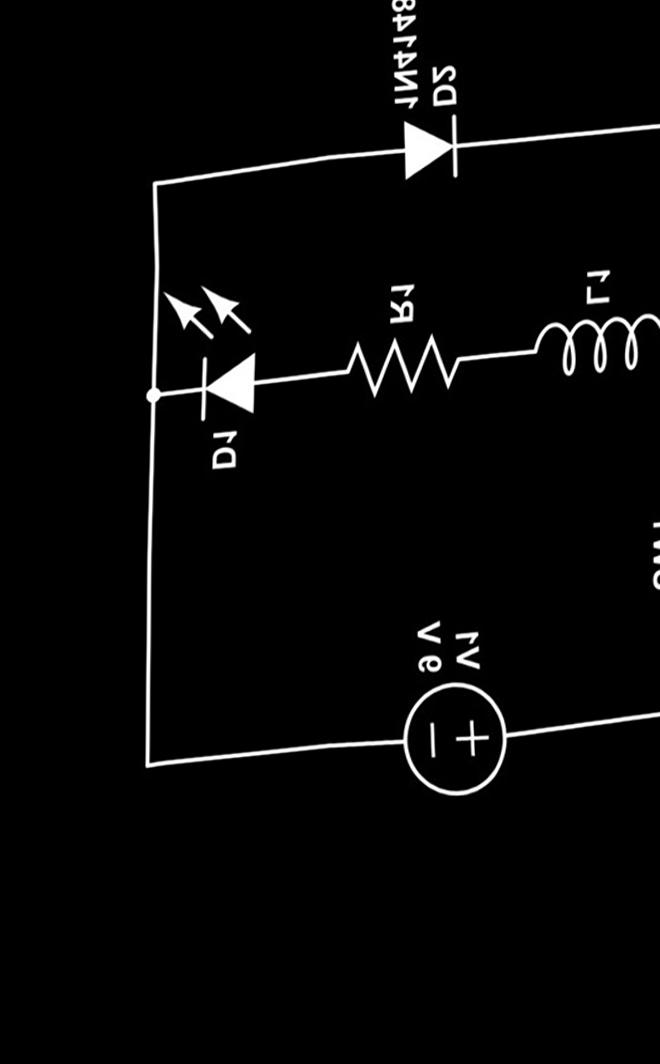Battery: (369, 668, 545, 835)
